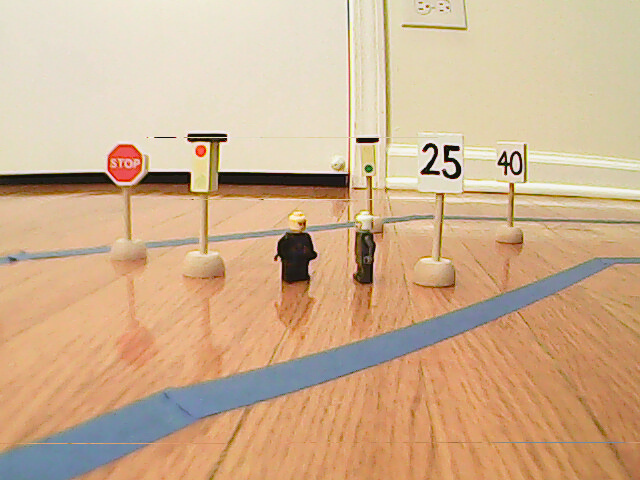Green Traffic Light: (355, 138, 379, 177)
Person: (275, 209, 320, 285), (349, 210, 379, 285)
Red Traffic Light: (186, 130, 224, 198)
Speed Limit 25: (416, 132, 464, 194)
Speed Limit 40: (496, 141, 528, 185)
Stop Sign: (103, 143, 148, 189)
